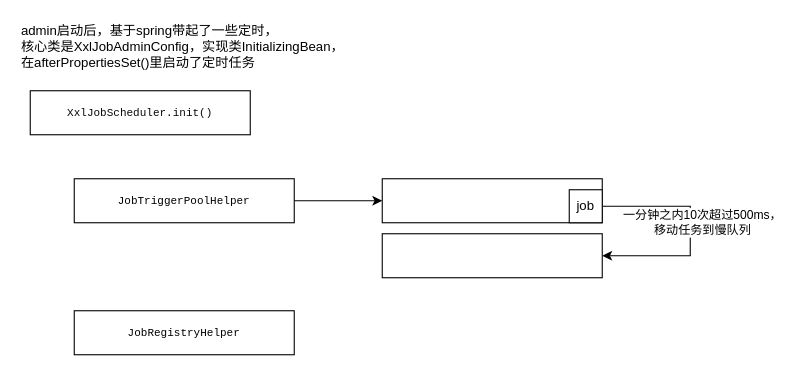
This 800x374 diagram has some shape labels left out. The shapes that lost their labels are listed below. From the top down, each one's box as (x1, y1, x2, y2) in pixels, then its label:
(381, 178, 602, 223): fastTriggerPool
(381, 233, 602, 278): slowTriggerPool
